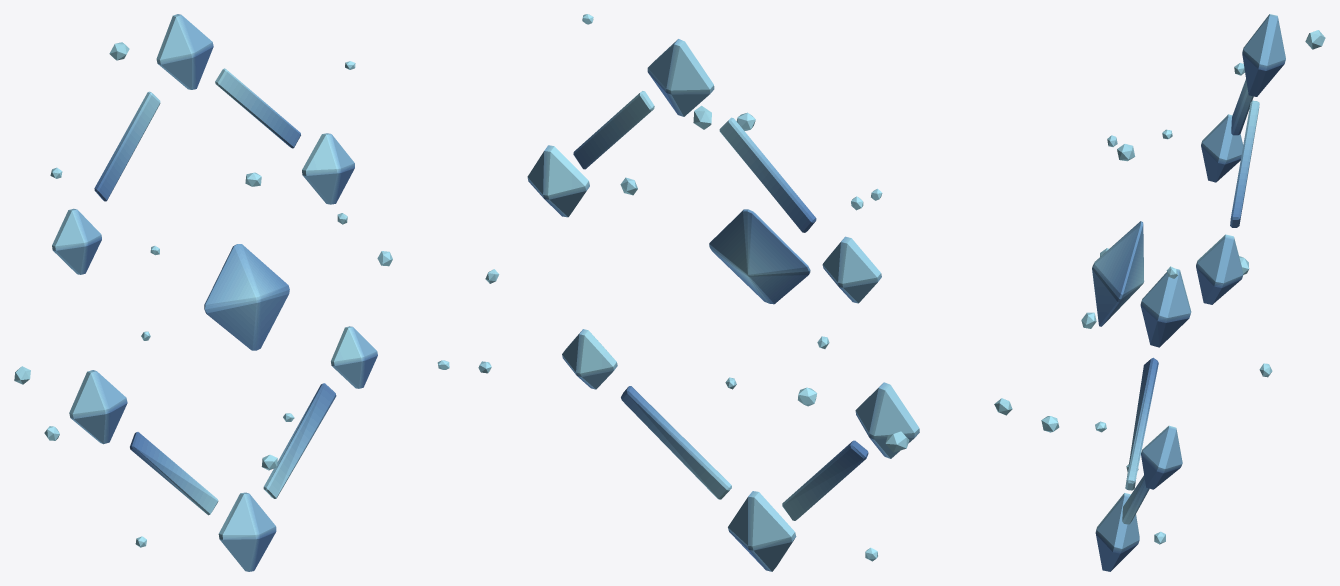
Rendered from CharSkyKid_Hat_AP27Constellation.glb.
The picture shows the model from 3 angles, left to right: view 1: azimuth 30°, elevation 25°; view 2: azimuth 150°, elevation 25°; view 3: azimuth 270°, elevation 25°; orthographic projection. The views are drawn at different scales.
Visible parts, largest first — view 1: CharSkyKid_Hat_AP27Constellation; view 2: CharSkyKid_Hat_AP27Constellation; view 3: CharSkyKid_Hat_AP27Constellation.
Part boxes in pixels (box(x1,y1,x2,y2)): CharSkyKid_Hat_AP27Constellation: box(14, 14, 449, 571); CharSkyKid_Hat_AP27Constellation: box(478, 14, 1012, 571); CharSkyKid_Hat_AP27Constellation: box(1041, 14, 1325, 571).
Size of the model in its own units: 3.55 by 3.99 by 1.84.
Materials: 1 (1 with a texture image).
